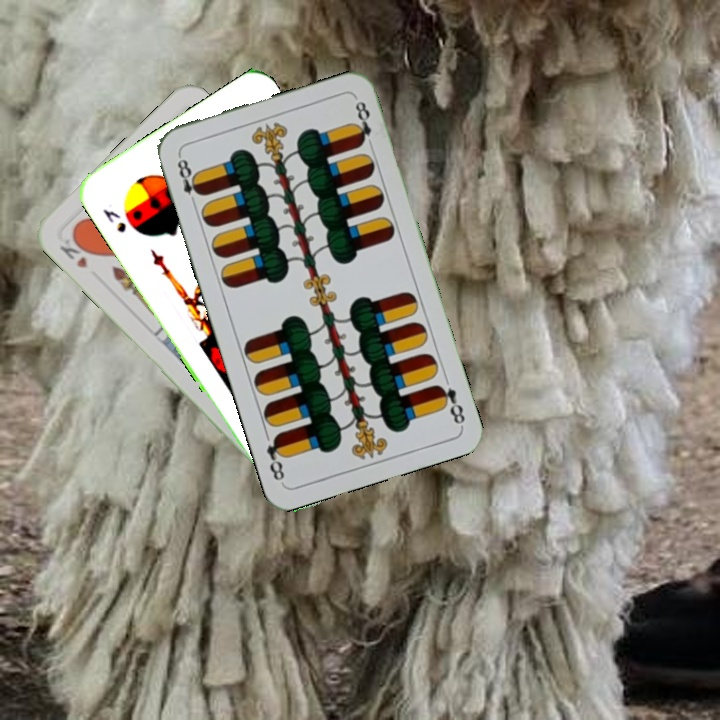E8: (173, 151, 205, 209), (432, 380, 468, 428)
HK: (55, 231, 94, 271)
SK: (98, 204, 129, 236)
